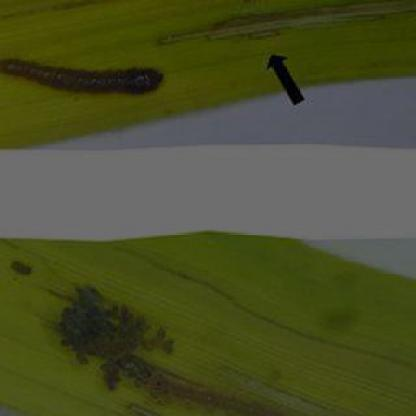leaf-folder: (45, 275, 149, 384), (0, 48, 176, 100), (170, 380, 264, 416)
